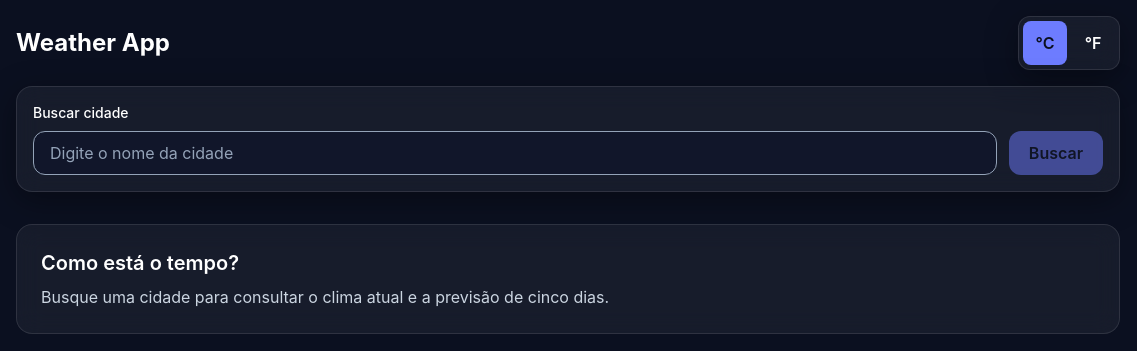
Test case: exibe vazio sem forecast e permite uma nova busca
Type "Inexistente" into the search field at (515, 153), box [33,131,997,175]
Then press Enter
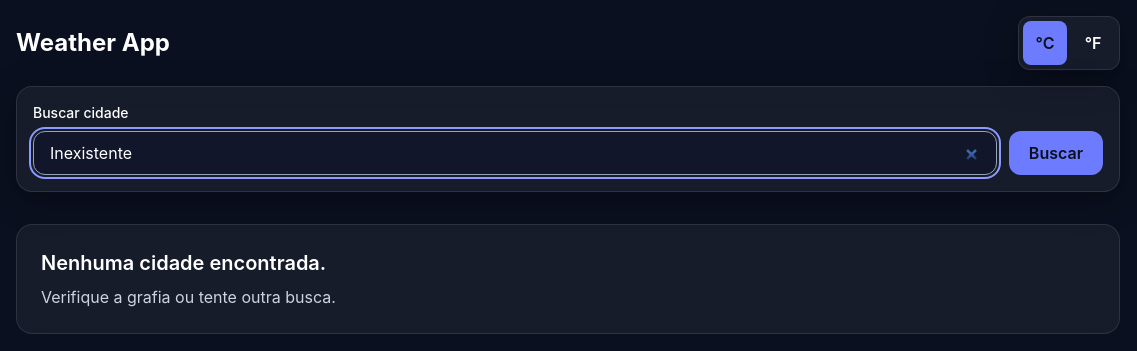
Now the heading "Nenhuma cidade encontrada." is shown, box [41,251,326,275]
